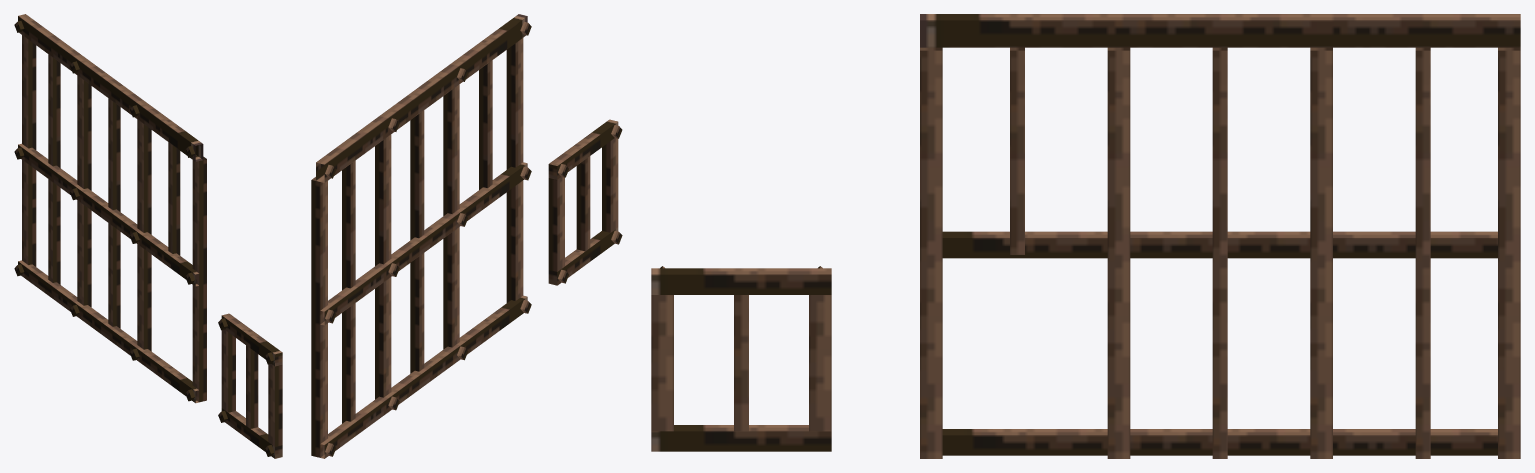
Rendered from ObjMD_Desert_Prison.FBX.
3 views of the same model, side by side, from view 1: azimuth 30°, elevation 25°; view 2: azimuth 150°, elevation 25°; view 3: azimuth 270°, elevation 25° (orthographic). The views are drawn at different scales.
Visible parts, largest first — view 1: ObjMD_Desert_Prison, ObjMD_Desert_Prison_Door; view 2: ObjMD_Desert_Prison, ObjMD_Desert_Prison_Door; view 3: ObjMD_Desert_Prison, ObjMD_Desert_Prison_Door.
Boxes of the visible parts, <box> form: ObjMD_Desert_Prison: <box>14,14,206,403</box>; ObjMD_Desert_Prison_Door: <box>218,313,282,458</box>; ObjMD_Desert_Prison: <box>311,14,531,458</box>; ObjMD_Desert_Prison_Door: <box>548,119,622,285</box>; ObjMD_Desert_Prison: <box>920,14,1520,458</box>; ObjMD_Desert_Prison_Door: <box>651,266,831,451</box>.
Bounding box in the file's own units: 25 × 400 × 724.
